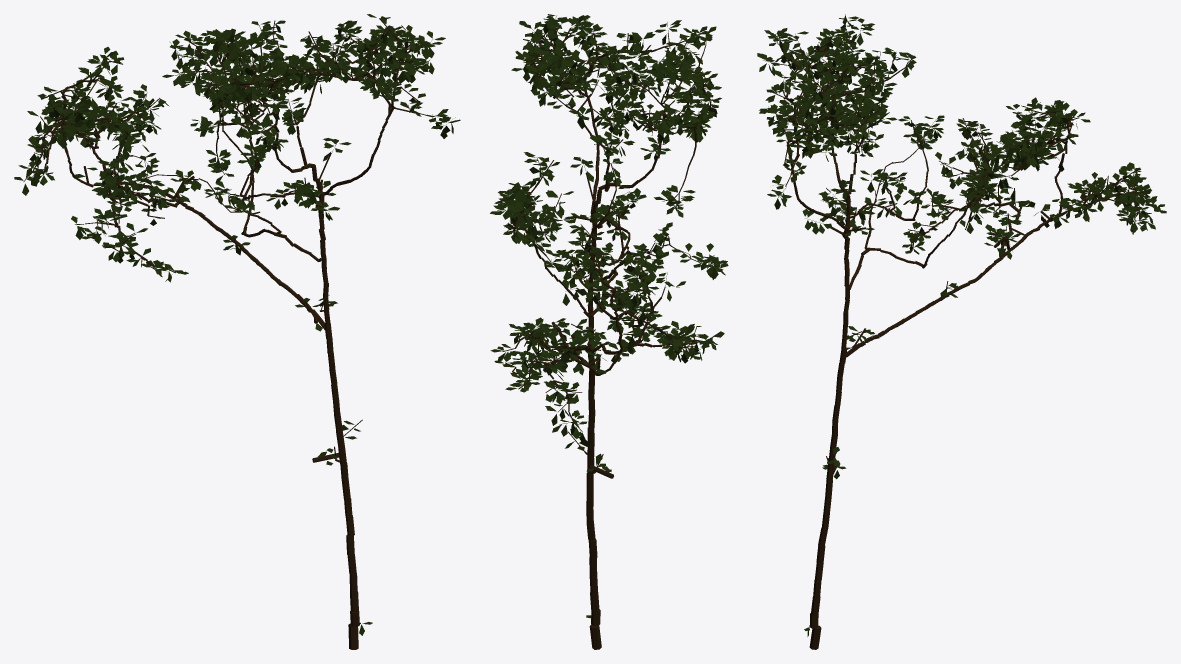
Rendered from 2022_tree_250.obj.
The picture shows the model from 3 angles, left to right: view 1: azimuth 30°, elevation 25°; view 2: azimuth 150°, elevation 25°; view 3: azimuth 270°, elevation 25°; orthographic projection. The views are drawn at different scales.
Visible parts, largest first — view 1: Leaves, TrunkAndBranches; view 2: Leaves, TrunkAndBranches; view 3: Leaves, TrunkAndBranches.
Part boxes in pixels (x1,y1,x2,y2): Leaves: [14, 14, 460, 635]; TrunkAndBranches: [23, 18, 455, 649]; Leaves: [490, 14, 728, 618]; TrunkAndBranches: [500, 16, 723, 649]; Leaves: [757, 16, 1166, 636]; TrunkAndBranches: [763, 14, 1150, 649].
Bounding box in the file's own units: 7.41 × 15.34 × 9.7.
